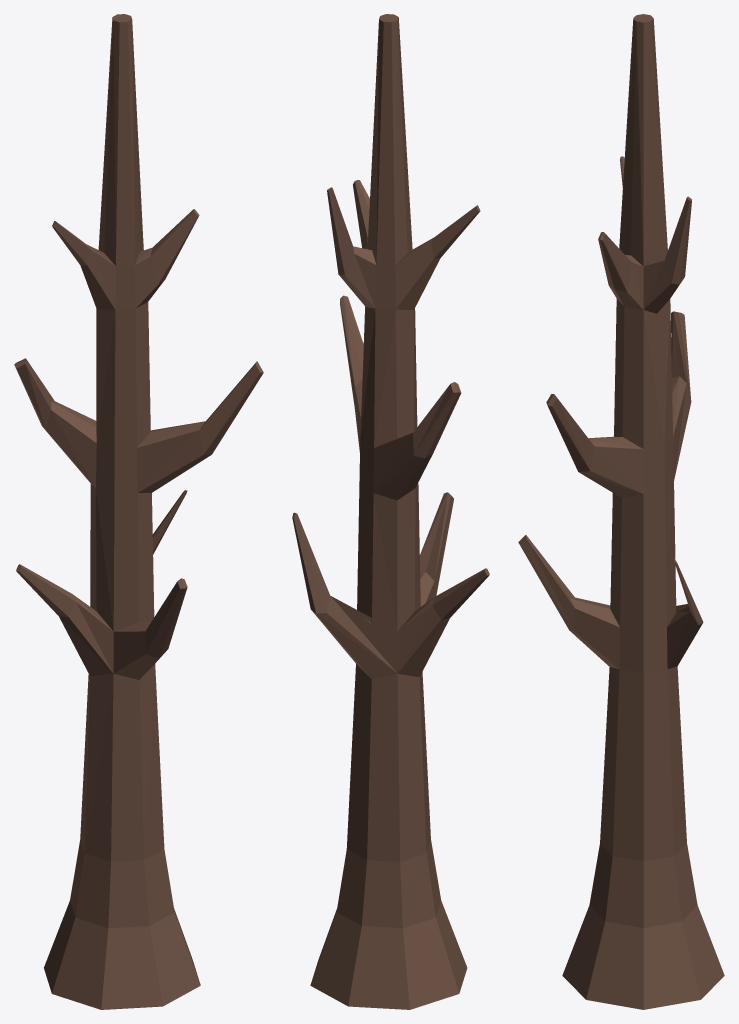
File: tall_deciduous_tree_no_leaves.obj
3 views of the same model, side by side, from view 1: azimuth 30°, elevation 25°; view 2: azimuth 150°, elevation 25°; view 3: azimuth 270°, elevation 25° (orthographic).
Parts seen in each view (by area): view 1: Tall_deciduous_tree_no_leaves; view 2: Tall_deciduous_tree_no_leaves; view 3: Tall_deciduous_tree_no_leaves.
Boxes of the visible parts, x1,y1,x2,y2 form: Tall_deciduous_tree_no_leaves: [14, 14, 263, 1009]; Tall_deciduous_tree_no_leaves: [292, 14, 489, 1009]; Tall_deciduous_tree_no_leaves: [518, 14, 724, 1009].
Bounding box in the file's own units: 0.5845 × 2.7 × 0.5281.
Materials: 1 (1 with a texture image).
